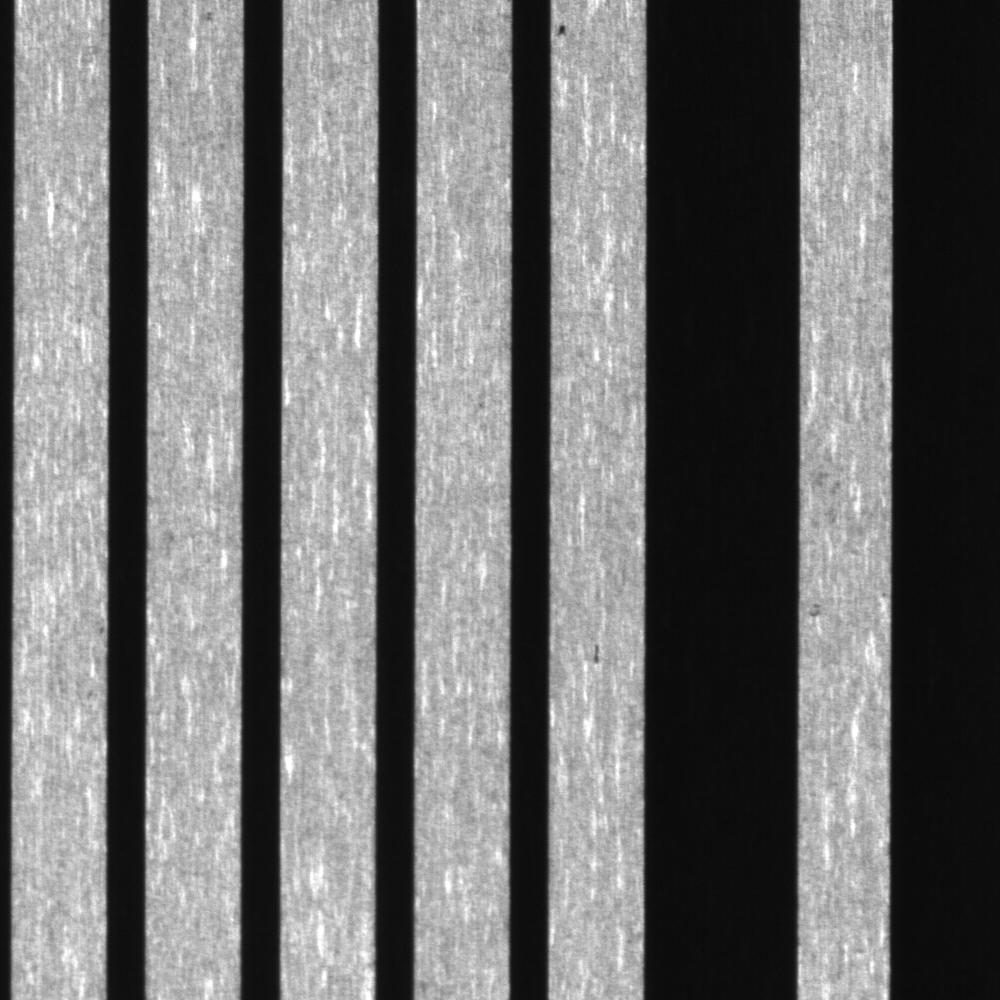Etching: (586, 627, 606, 682)
Pinhole: (551, 17, 584, 48)
